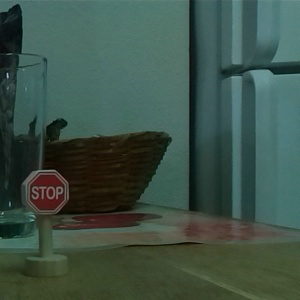stop sign: (18, 167, 72, 277)
